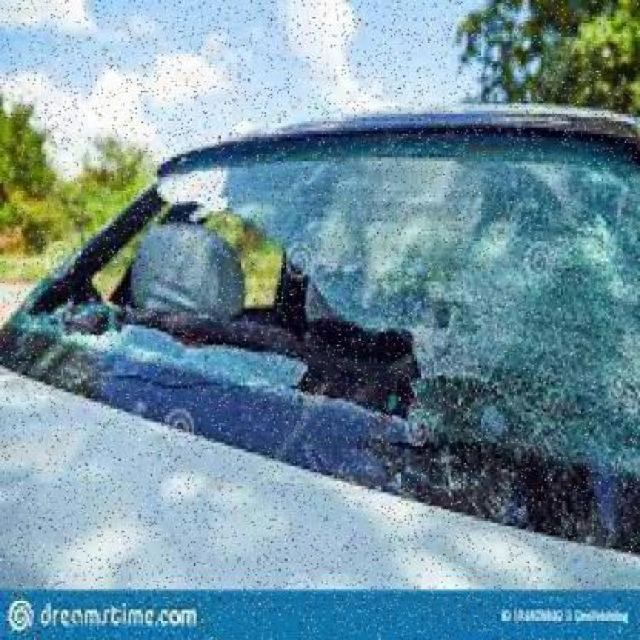Rear-windscreen-Damage: (0, 80, 638, 590)
